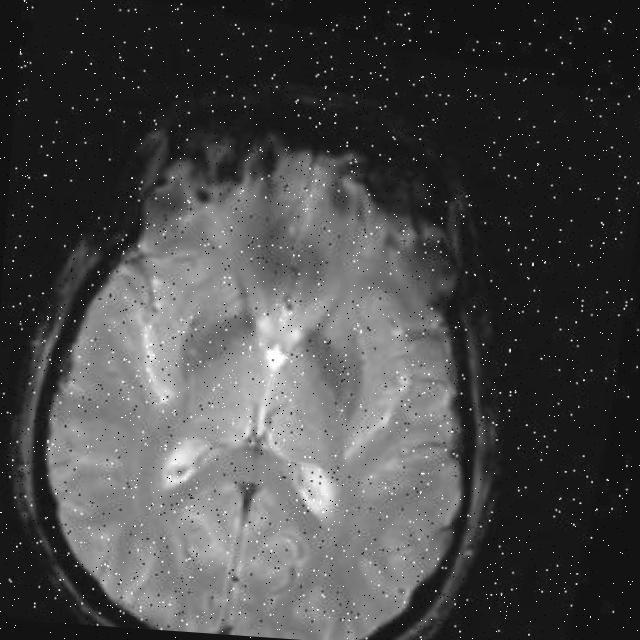CN: (284, 316, 412, 429)
MCI: (186, 236, 281, 396)
